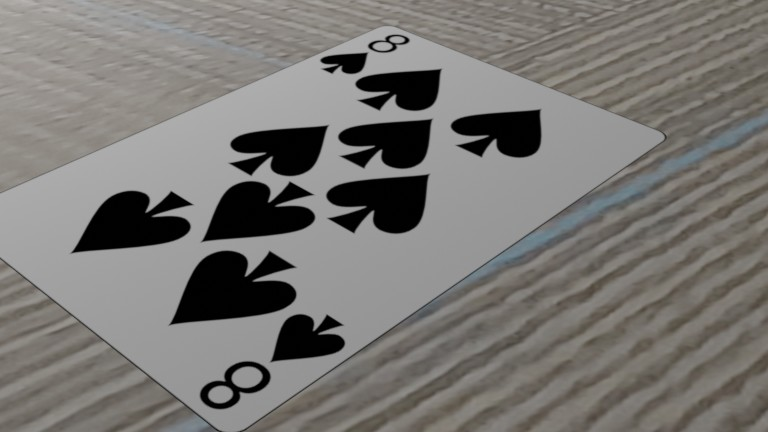8_of_spades: (173, 297, 370, 429), (304, 27, 429, 83)
